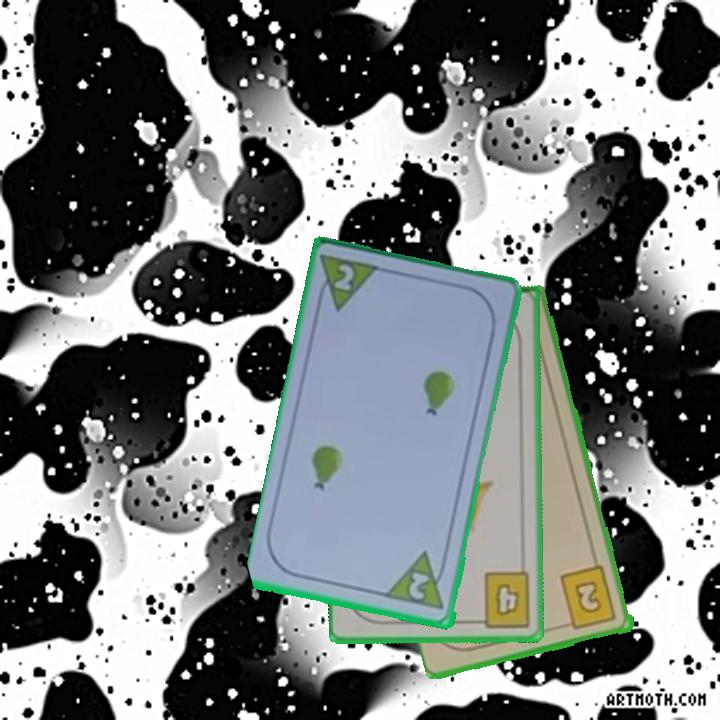2b: (557, 563, 620, 633)
2p: (313, 251, 384, 316), (384, 549, 451, 614)
4b: (470, 568, 534, 630)
